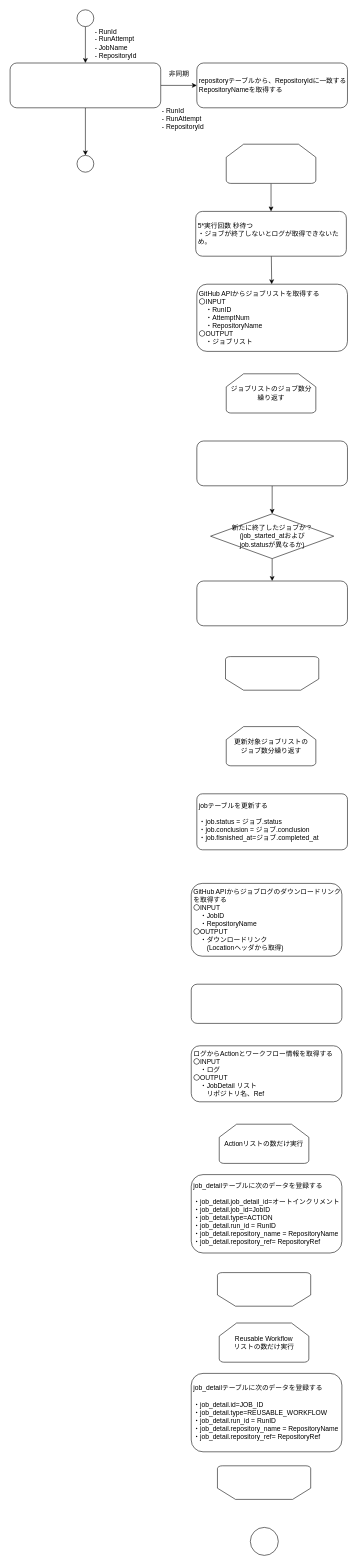
This 357x1565 diagram has some shape labels left out. Here are the shapes that lost their labels. From the top down, the centre of each, then its label:
At [85,85]: "解析処理を呼び出し →ジョブが終了しないと、終了ステータスを取得できないため。".
At [271,163]: "以下のどちらかを 満たすまで実行する ・3回リトライ ・新たなジョブの終了確認".
At [271,463]: "jobレコードからジョブ.idに一致するDBジョブを取得する".
At [271,603]: "更新対象ジョブリストに追加".
At [266,1003]: "ダウンロードリンクからログを取得する 〇OUTPUT ・ログ".
